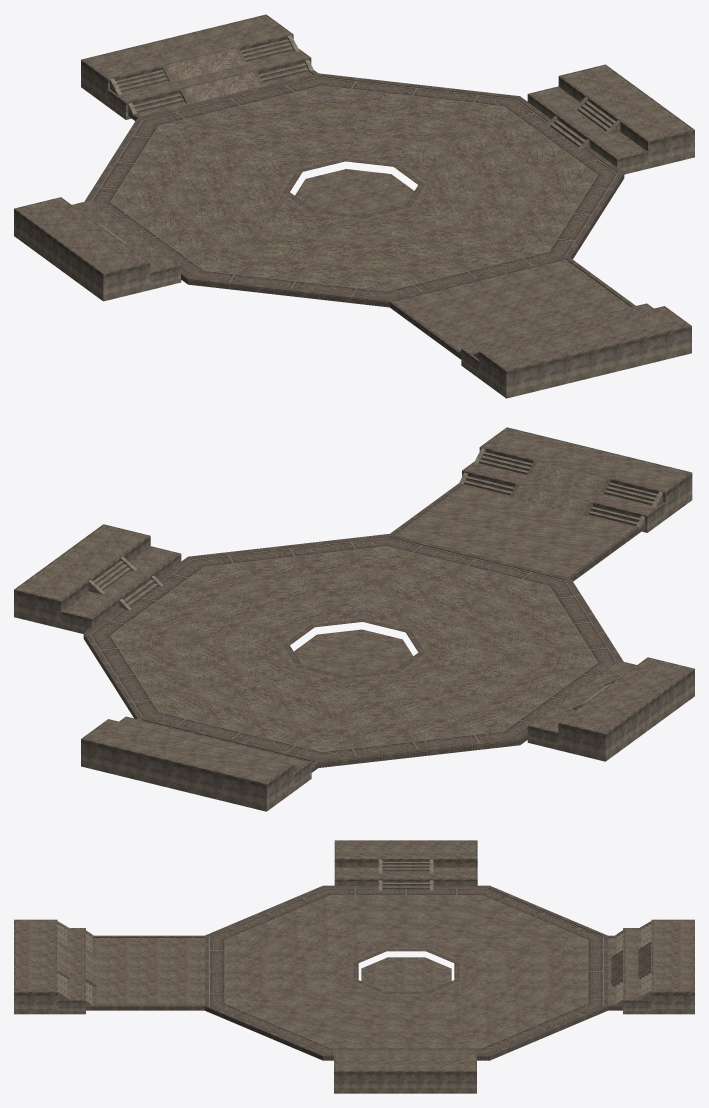
File: cj_jang_gate.lod1.glb
3 views of the same model, one above another, from view 1: azimuth 30°, elevation 25°; view 2: azimuth 150°, elevation 25°; view 3: azimuth 270°, elevation 25° (orthographic). The views are drawn at different scales.
Visible parts, largest first — view 1: cj_jang_gate07, cj_jang_gate06, cj_jang_gate08; view 2: cj_jang_gate07, cj_jang_gate06, cj_jang_gate08; view 3: cj_jang_gate07, cj_jang_gate08, cj_jang_gate06.
Boxes of the visible parts, bbox=[...] form: cj_jang_gate07: bbox=[18, 16, 691, 369]; cj_jang_gate06: bbox=[14, 14, 694, 398]; cj_jang_gate08: bbox=[84, 48, 635, 359]; cj_jang_gate07: bbox=[17, 428, 691, 782]; cj_jang_gate06: bbox=[14, 427, 694, 811]; cj_jang_gate08: bbox=[83, 460, 644, 772]; cj_jang_gate07: bbox=[16, 841, 692, 1070]; cj_jang_gate08: bbox=[57, 885, 651, 1060]; cj_jang_gate06: bbox=[14, 840, 694, 1093].
Size of what is drawn, in the model's own units: 106 by 4.71 by 132.
3 materials, 3 textured.
